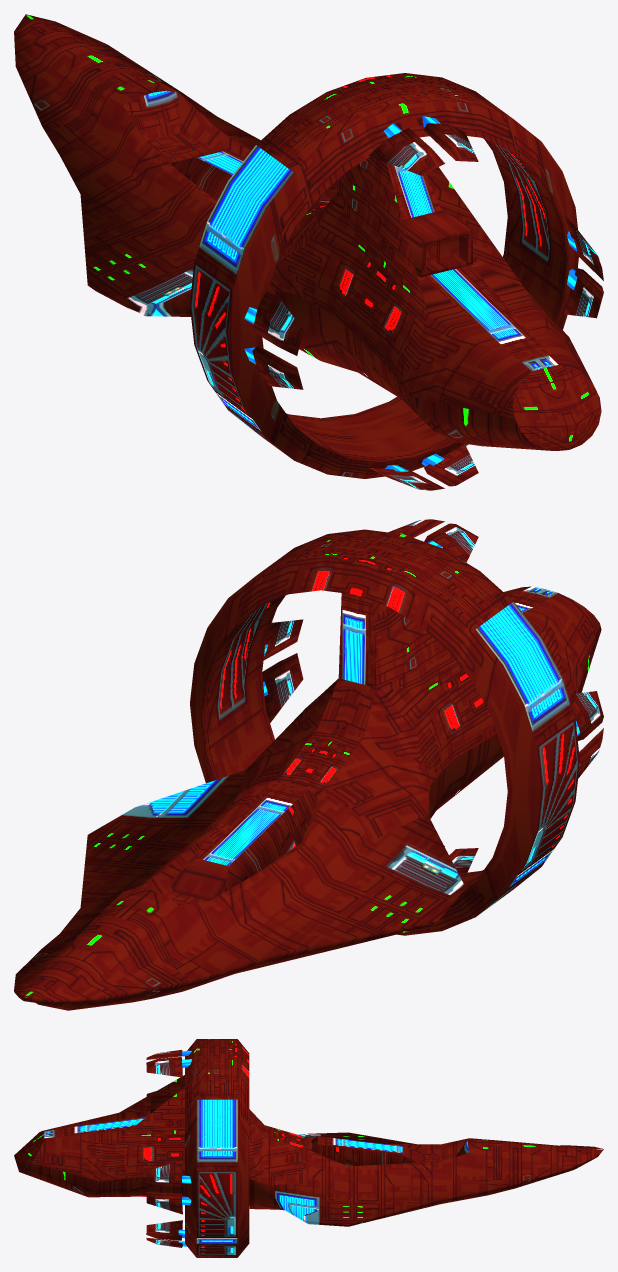
The model's file is Vul_Vreenak.fbx.
3 views of the same model, one above another, from view 1: azimuth 30°, elevation 25°; view 2: azimuth 150°, elevation 25°; view 3: azimuth 270°, elevation 25° (orthographic). The views are drawn at different scales.
Parts seen in each view (by area): view 1: Vul_Vreenak; view 2: Vul_Vreenak; view 3: Vul_Vreenak.
Boxes of the visible parts, bbox=[...] form: Vul_Vreenak: bbox=[14, 14, 603, 490]; Vul_Vreenak: bbox=[14, 519, 603, 1010]; Vul_Vreenak: bbox=[14, 1039, 603, 1257].
Size of the model in its own units: 247 by 247 by 666.
1 material, 1 textured.
